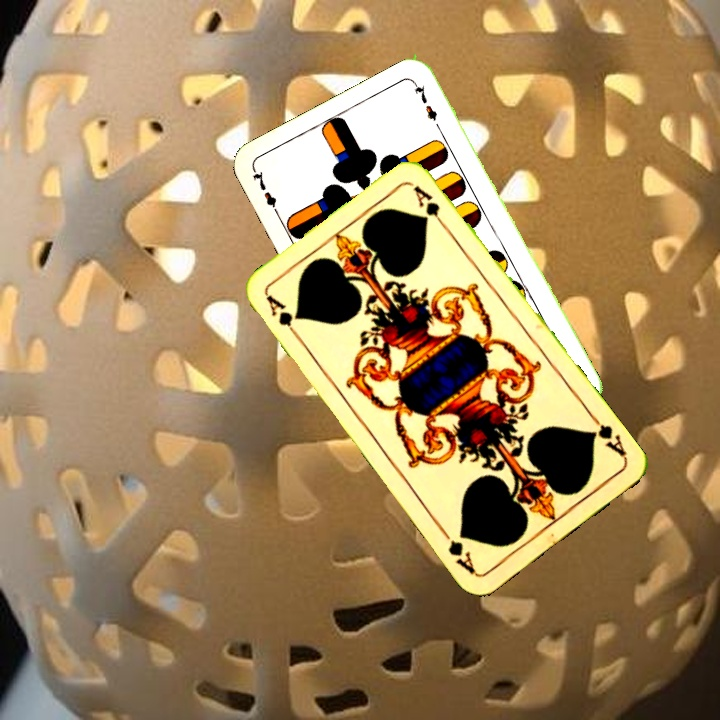E7: (248, 167, 284, 221)
GA: (585, 410, 629, 460), (262, 291, 303, 343)
